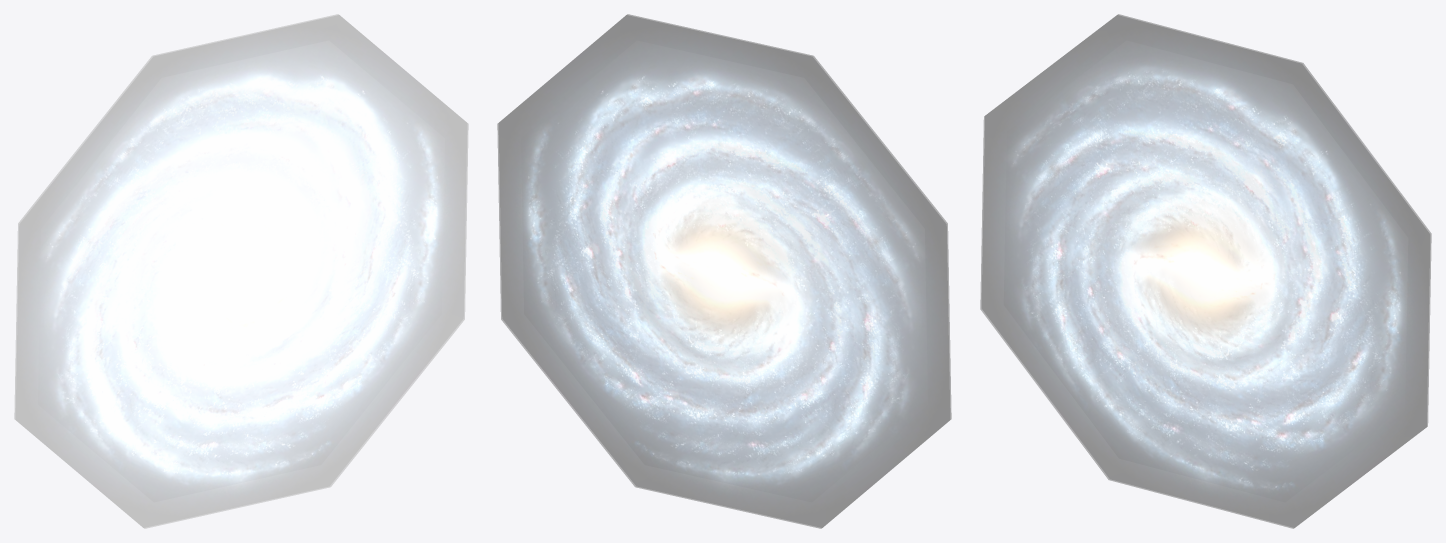
File: galaxy.glb
3 renders of one model, left to right at view 1: azimuth 30°, elevation 25°; view 2: azimuth 150°, elevation 25°; view 3: azimuth 330°, elevation 25°, orthographic.
Parts seen in each view (by area): view 1: Galaxy_Material #65_0; view 2: Galaxy_Material #65_0; view 3: Galaxy_Material #65_0.
Part boxes in pixels (x1,y1,x2,y2): Galaxy_Material #65_0: [14, 14, 468, 528]; Galaxy_Material #65_0: [497, 14, 951, 528]; Galaxy_Material #65_0: [980, 14, 1431, 528].
Bounding box in the file's own units: 2.83 × 2.83 × 0.1759.
1 material, 1 textured.
